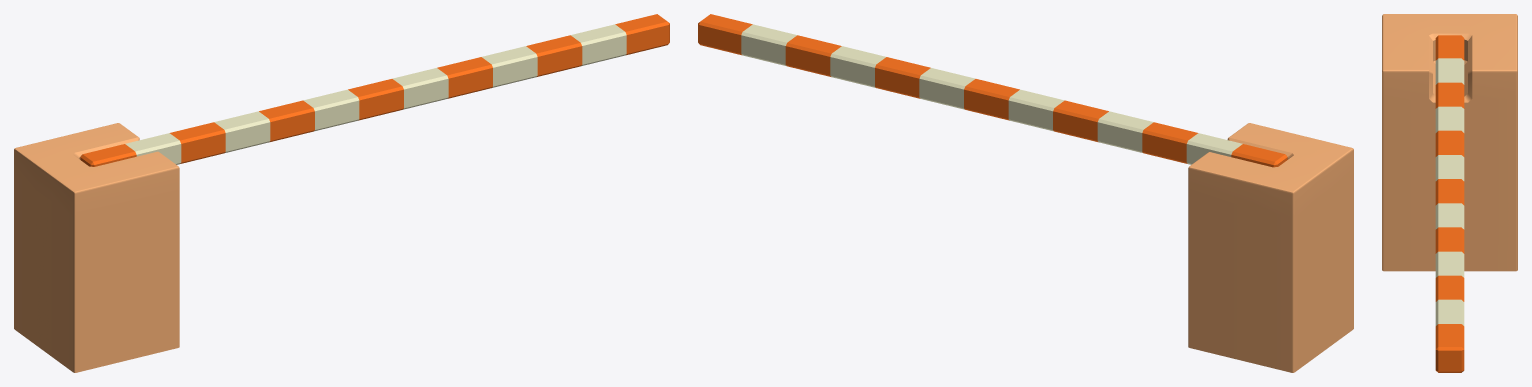
The model's file is Smart_Ticket_Parking_Machine_M.fbx.
3 renders of one model, left to right at view 1: azimuth 30°, elevation 25°; view 2: azimuth 150°, elevation 25°; view 3: azimuth 270°, elevation 25°, orthographic. The views are drawn at different scales.
Visible parts, largest first — view 1: Box_M, Pole_M; view 2: Box_M, Pole_M; view 3: Box_M, Pole_M.
Boxes of the visible parts, x1=… form: Box_M: x1=14, y1=123, x2=179, y2=372; Pole_M: x1=80, y1=14, x2=669, y2=166; Box_M: x1=1188, y1=123, x2=1353, y2=372; Pole_M: x1=698, y1=14, x2=1287, y2=167; Box_M: x1=1382, y1=14, x2=1517, y2=271; Pole_M: x1=1435, y1=35, x2=1464, y2=372.
Size of the model in its own units: 2.71 by 0.7584 by 0.462.
Materials: 1 (1 with a texture image).
